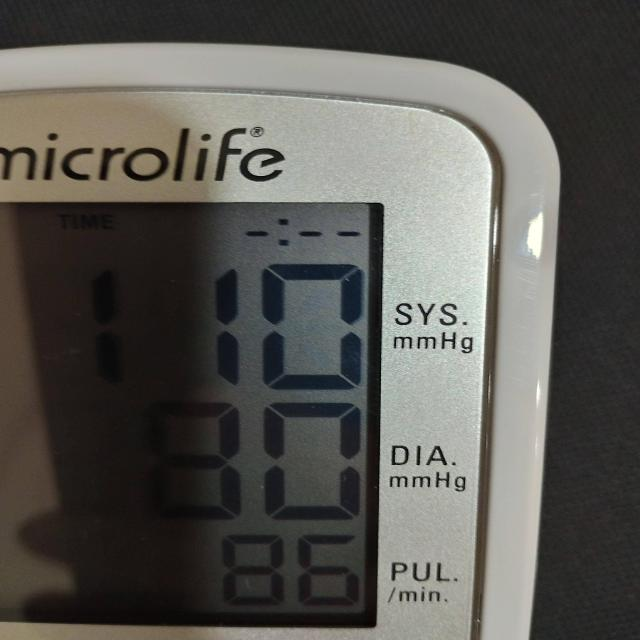bp: (0, 46, 557, 640)
